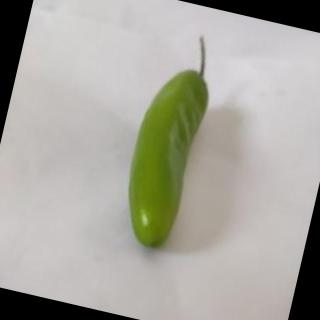Cabai Hijau: (109, 24, 229, 257)
